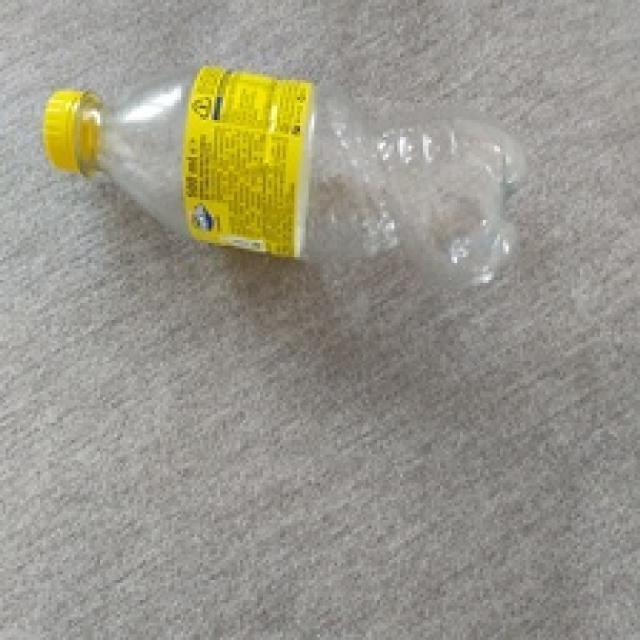Plastic: (34, 66, 536, 290)
